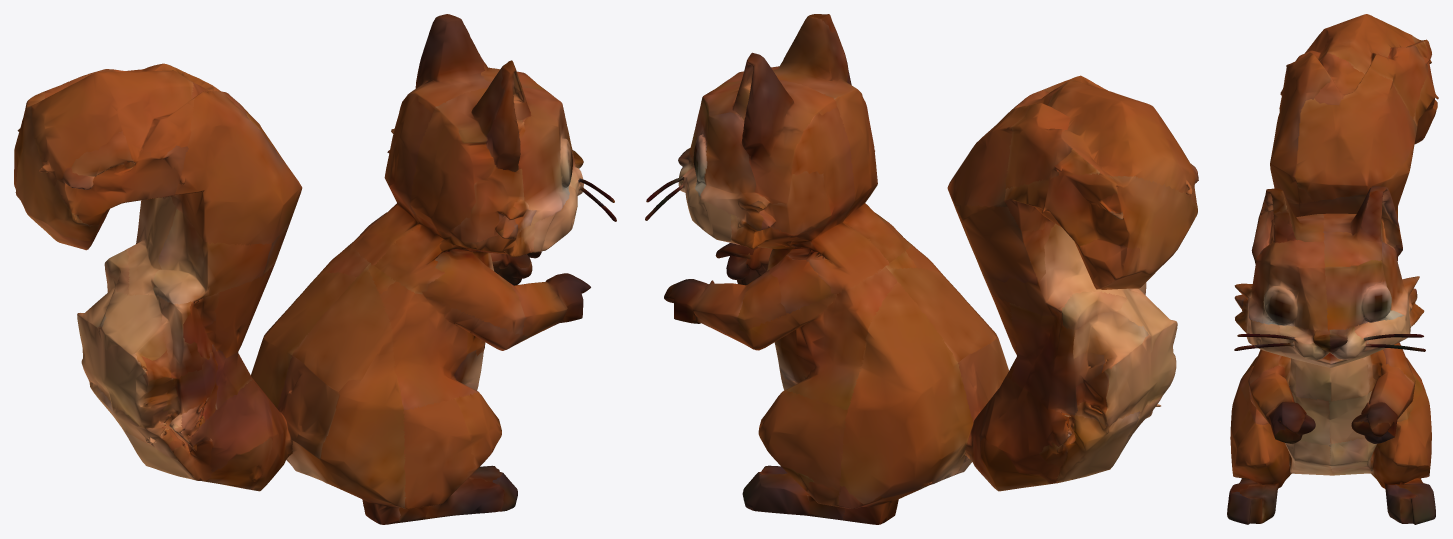
File: squirrel_critter.glb
The picture shows the model from 3 angles, left to right: view 1: azimuth 30°, elevation 25°; view 2: azimuth 150°, elevation 25°; view 3: azimuth 270°, elevation 25°; orthographic projection. The views are drawn at different scales.
Visible parts, largest first — view 1: tripo_node_8946b6db-e53f-451e-81b3-36a77d51fd11; view 2: tripo_node_8946b6db-e53f-451e-81b3-36a77d51fd11; view 3: tripo_node_8946b6db-e53f-451e-81b3-36a77d51fd11.
Boxes of the visible parts, left/top/right/bottom form: tripo_node_8946b6db-e53f-451e-81b3-36a77d51fd11: left=14, top=14, right=616, bottom=524; tripo_node_8946b6db-e53f-451e-81b3-36a77d51fd11: left=645, top=14, right=1198, bottom=524; tripo_node_8946b6db-e53f-451e-81b3-36a77d51fd11: left=1227, top=14, right=1438, bottom=524.
Bounding box in the file's own units: 0.9999 × 0.8374 × 0.4297.
1 material, 1 textured.
